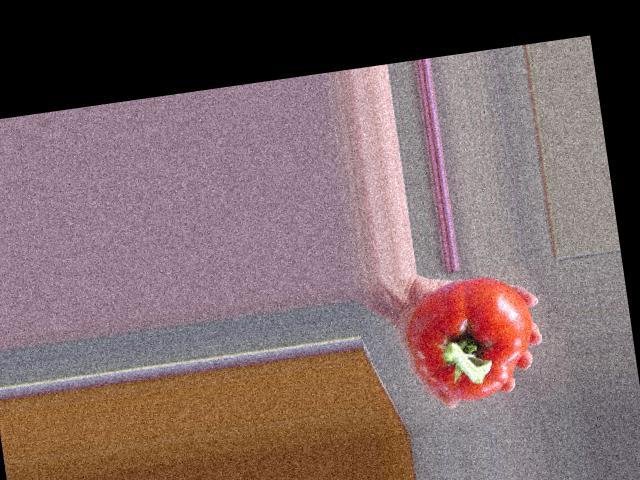tomato: (401, 270, 542, 408)
